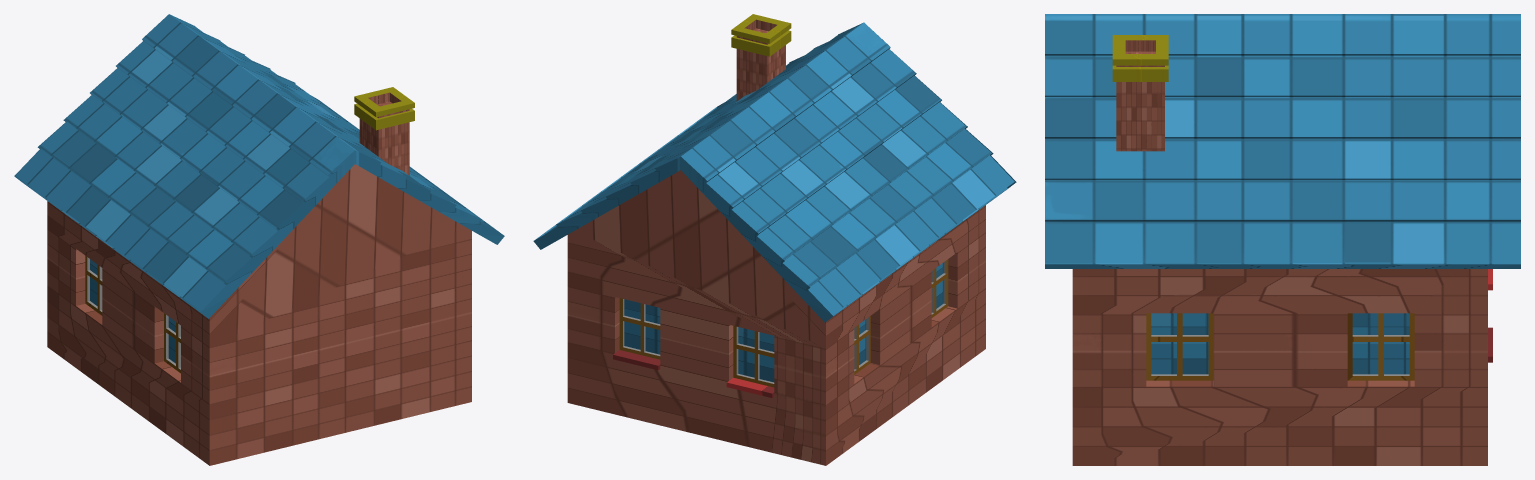
The model's file is house_3.FBX.
3 views of the same model, side by side, from view 1: azimuth 30°, elevation 25°; view 2: azimuth 150°, elevation 25°; view 3: azimuth 270°, elevation 25° (orthographic). The views are drawn at different scales.
Visible parts, largest first — view 1: Box1440, house_2_roof012, house_2_underroof011, Box1441, h2_smoke_hall010, Object260, Object261, Object262; view 2: Box1440, house_2_roof012, house_2_underroof011, Object262, Object260, Box1441, h2_smoke_hall010, Object261, Object263; view 3: house_2_roof012, Box1440, Object262, Box1441, Object260, house_2_underroof011, h2_smoke_hall010.
Boxes of the visible parts, box(x1,y1,x2,y2) form: Box1440: box(47, 164, 471, 465); house_2_roof012: box(16, 14, 492, 310); house_2_underroof011: box(14, 19, 504, 318); Box1441: box(359, 92, 409, 175); h2_smoke_hall010: box(354, 87, 414, 130); Object260: box(85, 256, 180, 373); Object261: box(87, 257, 180, 369); Object262: box(90, 259, 175, 363); Box1440: box(567, 170, 985, 465); house_2_roof012: box(546, 22, 1014, 314); house_2_underroof011: box(533, 28, 1016, 322); Object262: box(624, 262, 943, 382); Object260: box(619, 259, 948, 387); Box1441: box(736, 19, 785, 101); h2_smoke_hall010: box(731, 14, 791, 56); Object261: box(623, 261, 946, 383); Object263: box(613, 350, 774, 397); house_2_roof012: box(1045, 14, 1520, 262); Box1440: box(1072, 269, 1487, 465); Object262: box(1151, 313, 1409, 374); Box1441: box(1116, 40, 1164, 151); Object260: box(1146, 313, 1414, 380); house_2_underroof011: box(1045, 263, 1520, 268); h2_smoke_hall010: box(1112, 35, 1168, 81).
Size of the model in its own units: 29.52 by 27.56 by 31.21.
9 materials, 8 textured.
